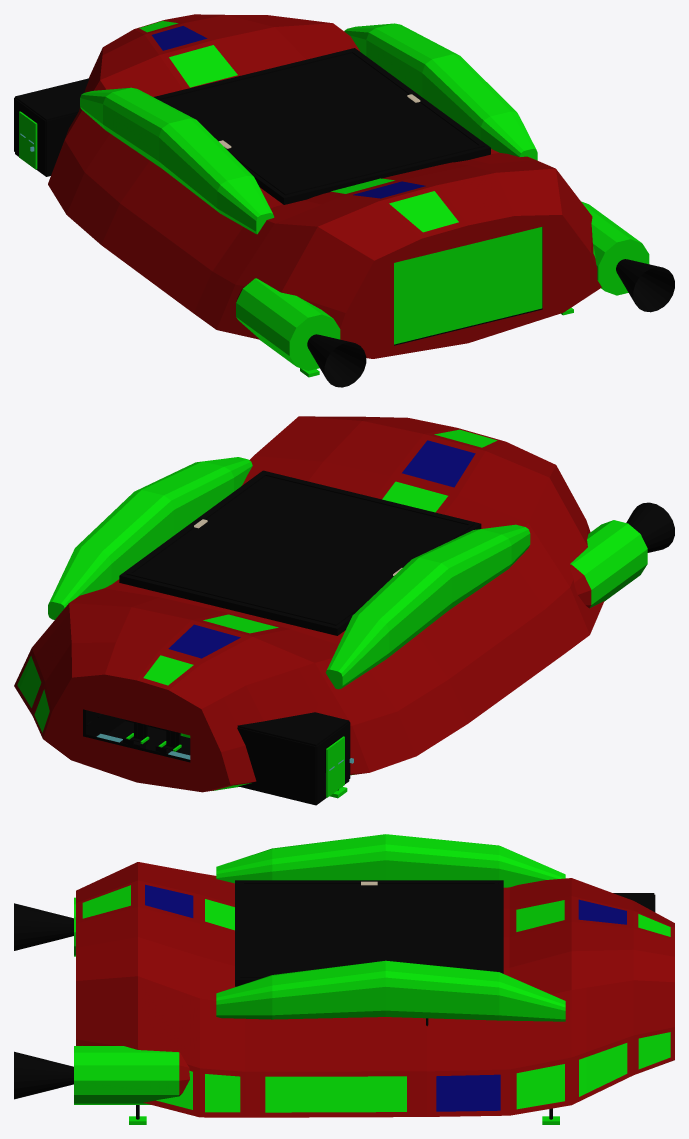
File: hearth.glb
The picture shows the model from 3 angles, top to bottom: view 1: azimuth 30°, elevation 25°; view 2: azimuth 150°, elevation 25°; view 3: azimuth 270°, elevation 25°; orthographic projection. The views are drawn at different scales.
Visible parts, largest first — view 1: expedition_hearth:lifting_body, expedition_hearth:cradle_Dorsal scout cradle, expedition_hearth:ramp_ramp, expedition_hearth:sculpted_side_shoulder_-1, expedition_hearth:sculpted_side_shoulder_1, expedition_hearth:service_panels_0, expedition_hearth:drive_housing_-1, expedition_hearth:drive_housing_1, expedition_hearth:engine_0, expedition_hearth:engine_1, expedition_hearth:room_bridge-eva, expedition_hearth:ceiling_bridge-eva; view 2: expedition_hearth:lifting_body, expedition_hearth:cradle_Dorsal scout cradle, expedition_hearth:sculpted_side_shoulder_-1, expedition_hearth:sculpted_side_shoulder_1, expedition_hearth:service_panels_0, expedition_hearth:room_bridge-eva, expedition_hearth:drive_housing_-1, expedition_hearth:ceiling_bridge-eva, expedition_hearth:room_bridge, expedition_hearth:engine_0; view 3: expedition_hearth:lifting_body, expedition_hearth:cradle_Dorsal scout cradle, expedition_hearth:service_panels_0, expedition_hearth:sculpted_side_shoulder_1, expedition_hearth:sculpted_side_shoulder_-1, expedition_hearth:drive_housing_1, expedition_hearth:engine_0, expedition_hearth:engine_1.
Boxes of the visible parts, <box> form: expedition_hearth:lifting_body: <box>48,14,601,358</box>; expedition_hearth:cradle_Dorsal scout cradle: <box>153,48,490,204</box>; expedition_hearth:ramp_ramp: <box>394,227,542,344</box>; expedition_hearth:sculpted_side_shoulder_-1: <box>80,87,274,234</box>; expedition_hearth:sculpted_side_shoulder_1: <box>344,23,537,160</box>; expedition_hearth:service_panels_0: <box>139,21,595,257</box>; expedition_hearth:drive_housing_-1: <box>236,278,340,370</box>; expedition_hearth:drive_housing_1: <box>581,201,649,295</box>; expedition_hearth:engine_0: <box>307,334,366,387</box>; expedition_hearth:engine_1: <box>616,259,674,312</box>; expedition_hearth:room_bridge-eva: <box>14,97,77,176</box>; expedition_hearth:ceiling_bridge-eva: <box>15,78,89,120</box>; expedition_hearth:lifting_body: <box>14,416,604,792</box>; expedition_hearth:cradle_Dorsal scout cradle: <box>119,470,481,635</box>; expedition_hearth:sculpted_side_shoulder_-1: <box>325,524,530,689</box>; expedition_hearth:sculpted_side_shoulder_1: <box>48,457,252,619</box>; expedition_hearth:service_panels_0: <box>17,429,497,790</box>; expedition_hearth:room_bridge-eva: <box>237,721,350,805</box>; expedition_hearth:drive_housing_-1: <box>570,520,647,608</box>; expedition_hearth:ceiling_bridge-eva: <box>237,712,349,746</box>; expedition_hearth:room_bridge: <box>83,709,190,762</box>; expedition_hearth:engine_0: <box>626,502,674,552</box>; expedition_hearth:lifting_body: <box>76,862,674,1117</box>; expedition_hearth:cradle_Dorsal scout cradle: <box>235,880,503,986</box>; expedition_hearth:service_panels_0: <box>82,884,670,1112</box>; expedition_hearth:sculpted_side_shoulder_1: <box>216,960,565,1021</box>; expedition_hearth:sculpted_side_shoulder_-1: <box>216,834,565,887</box>; expedition_hearth:drive_housing_1: <box>74,1046,189,1104</box>; expedition_hearth:engine_0: <box>14,903,73,950</box>; expedition_hearth:engine_1: <box>14,1051,73,1099</box>.
Bounding box in the file's own units: 20.8 × 8.47 × 32.
